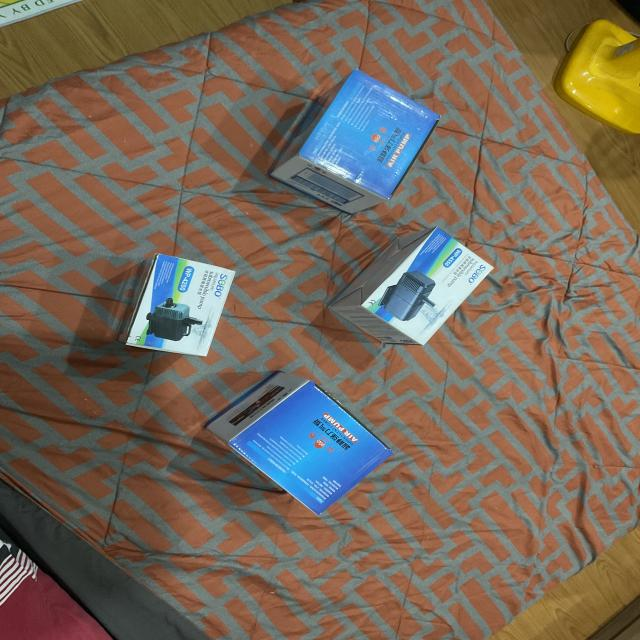SOBO_WP_4200: (325, 222, 503, 354), (102, 244, 239, 364)
YAMANO_LPP_20: (194, 368, 403, 518), (266, 68, 448, 217)
